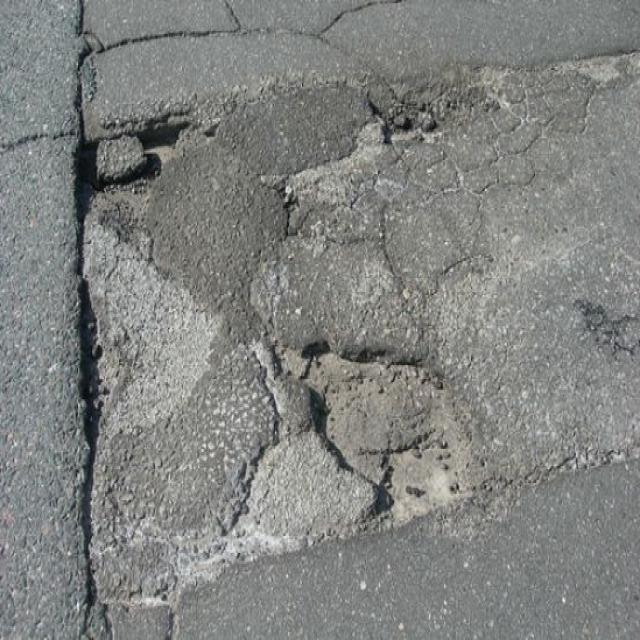Pothole: (287, 333, 489, 529), (69, 216, 227, 436), (66, 103, 208, 219)
